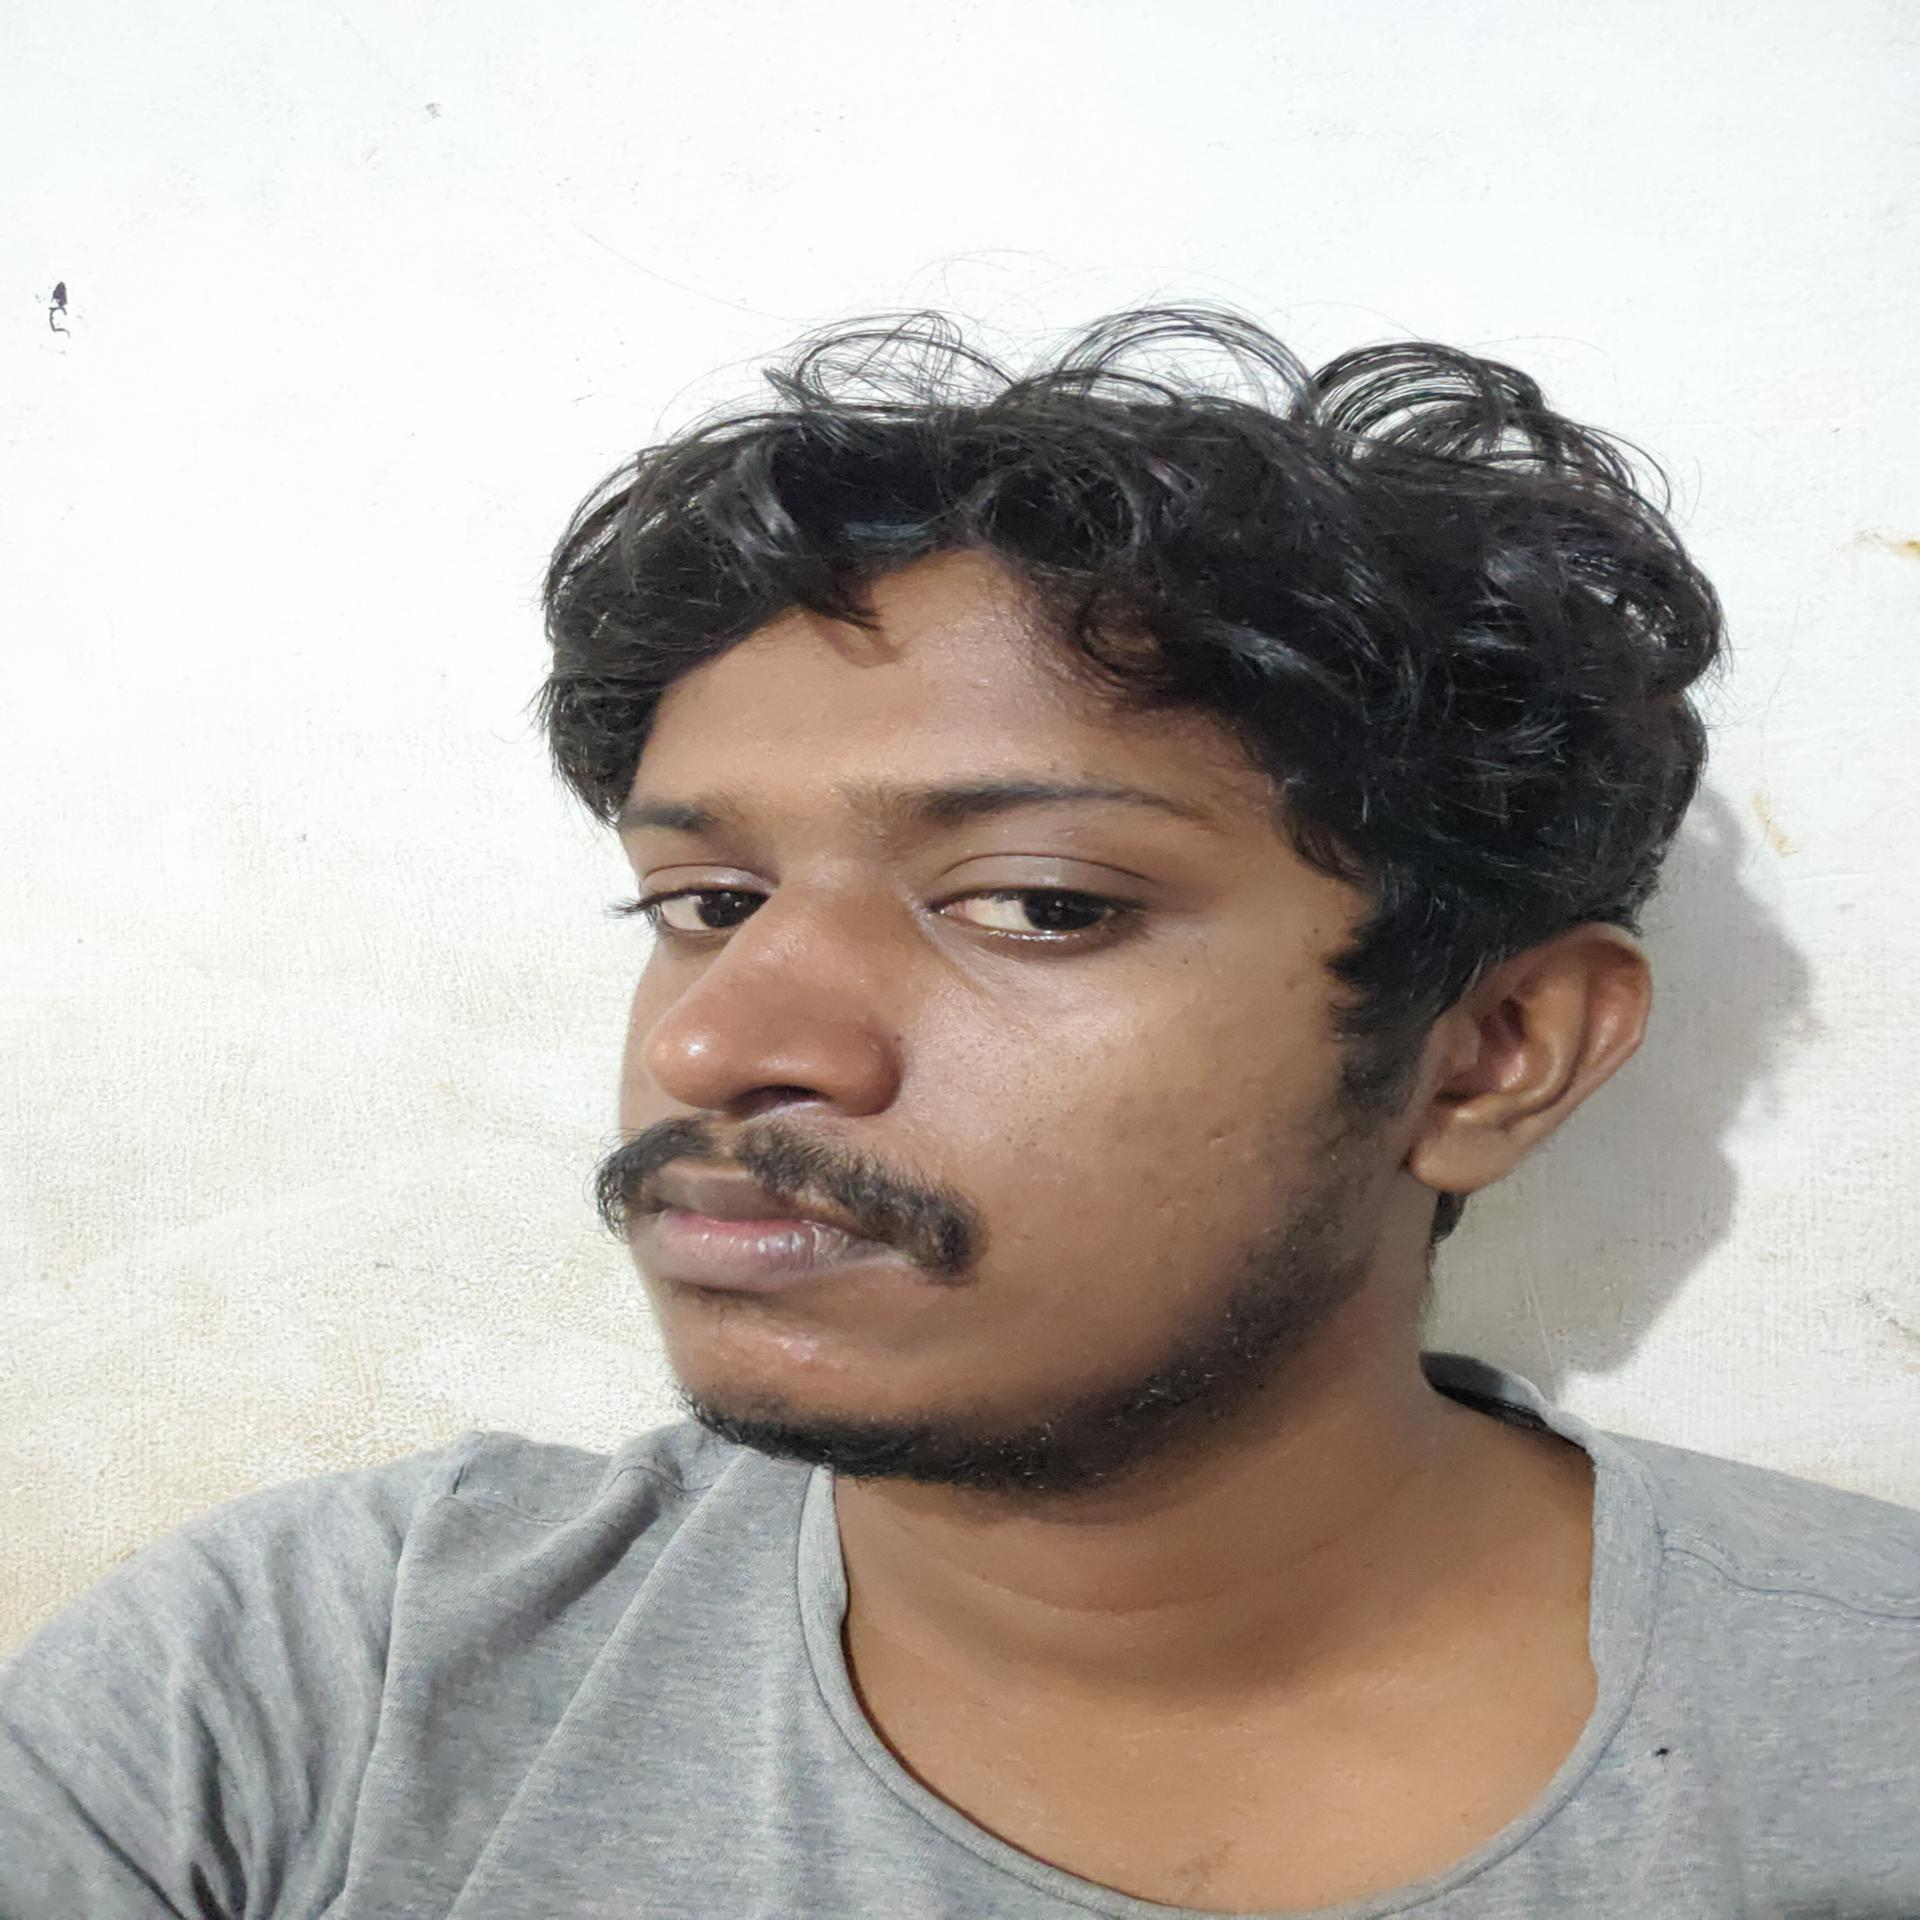Acne: (767, 1329, 872, 1389), (1029, 745, 1071, 774), (700, 1345, 742, 1370), (1250, 1224, 1282, 1247), (872, 823, 897, 844), (825, 784, 847, 802)
Englarged Pores: (918, 1016, 1136, 1160), (1187, 1109, 1273, 1171), (1131, 1247, 1190, 1284), (1141, 1192, 1194, 1231)
